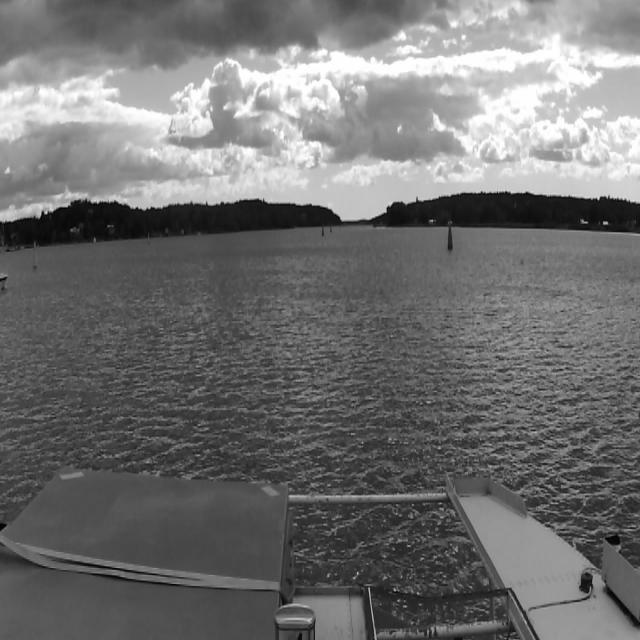buoy: (32, 242, 38, 269), (447, 224, 453, 250), (322, 226, 324, 236), (330, 225, 332, 233)
